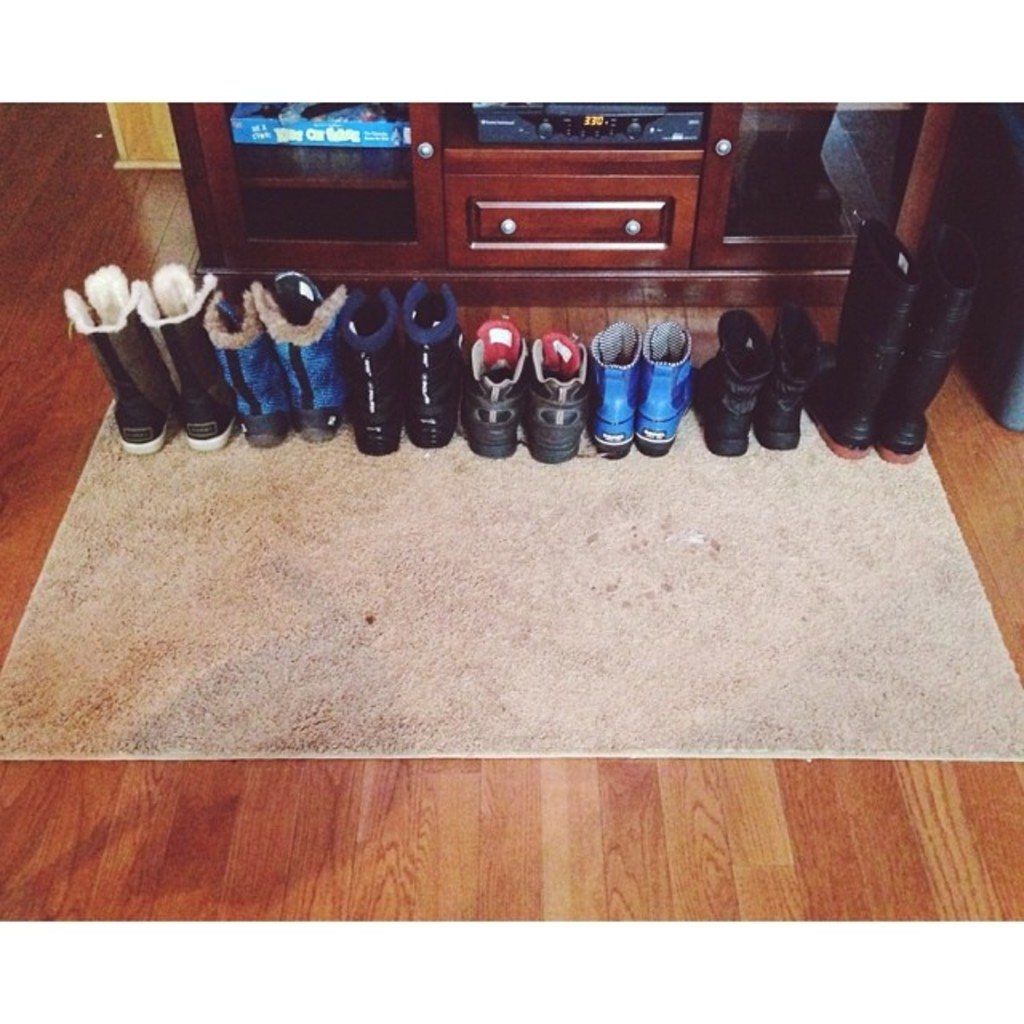cabinet door: (190, 111, 444, 240), (460, 168, 694, 263), (710, 107, 850, 260)
handle: (710, 129, 738, 176), (408, 129, 435, 169), (498, 205, 521, 245), (626, 206, 647, 249)
